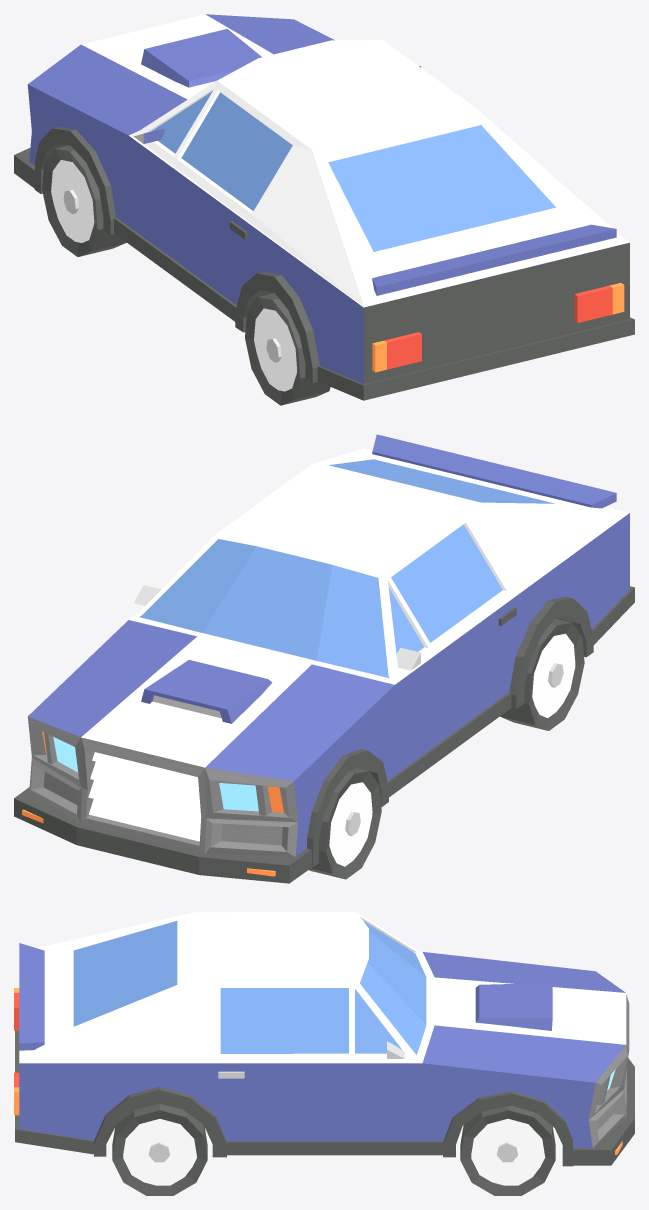
Rendered from transport_jeep.006.glb.
The picture shows the model from 3 angles, top to bottom: view 1: azimuth 30°, elevation 25°; view 2: azimuth 150°, elevation 25°; view 3: azimuth 270°, elevation 25°; orthographic projection. The views are drawn at different scales.
Visible parts, largest first — view 1: transport_jeep.006(Clone); view 2: transport_jeep.006(Clone); view 3: transport_jeep.006(Clone).
Boxes of the visible parts, box(x1,y1,x2,y2) form: transport_jeep.006(Clone): box(14, 14, 634, 405); transport_jeep.006(Clone): box(14, 434, 634, 883); transport_jeep.006(Clone): box(14, 912, 634, 1195).
Size of the model in its own units: 1.67 by 1.28 by 3.68.
Materials: 1 (1 with a texture image).
